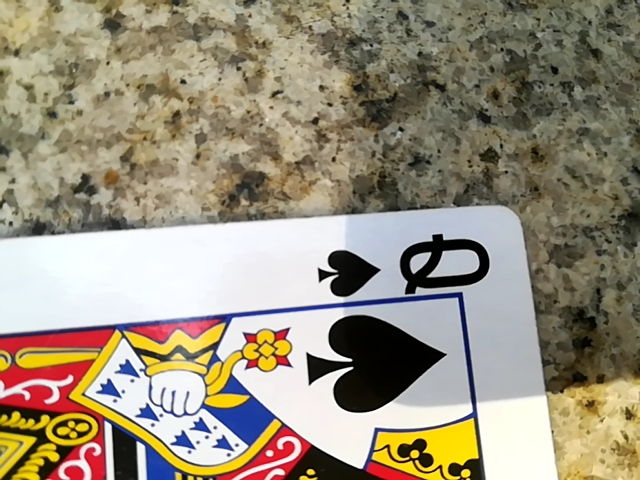ht q: (5, 222, 579, 477)
